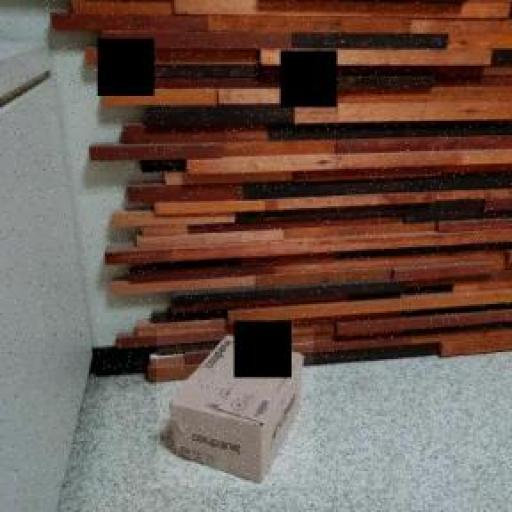box: (156, 328, 314, 488)
